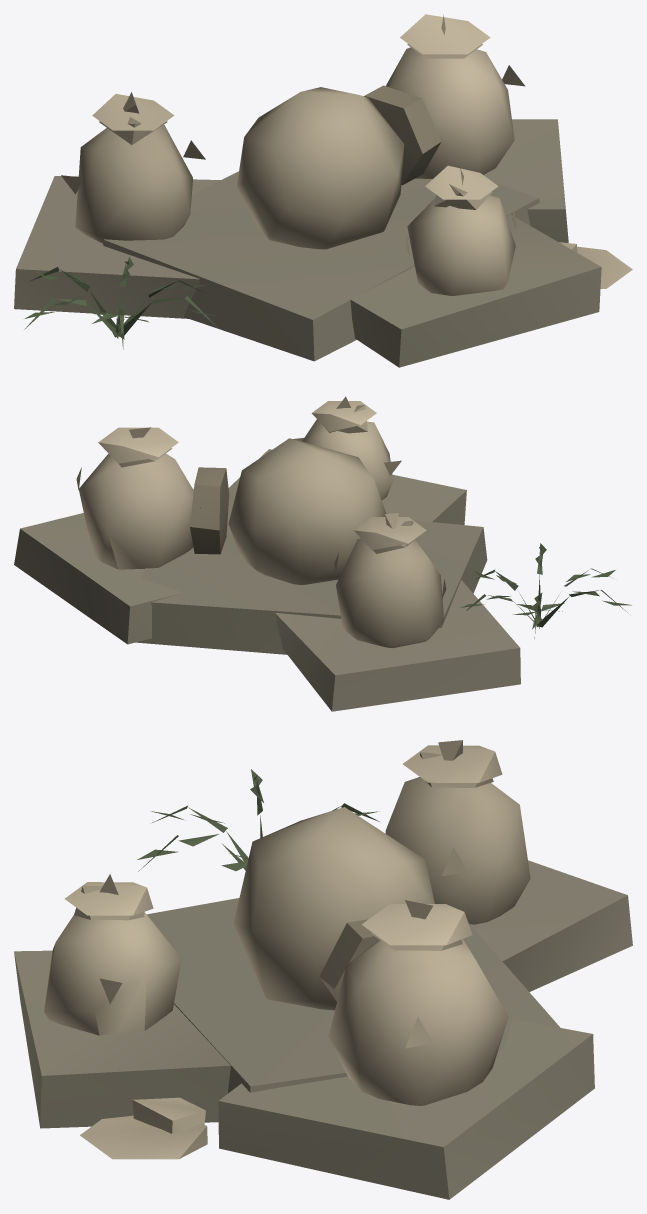
Rendered from granary_jars_c_lod2.glb.
3 renders of one model, top to bottom at view 1: azimuth 30°, elevation 25°; view 2: azimuth 150°, elevation 25°; view 3: azimuth 270°, elevation 25°, orthographic. The views are drawn at different scales.
Visible parts, largest first — view 1: Surface.001; view 2: Surface.001; view 3: Surface.001.
Part boxes in pixels (x1=…): Surface.001: x1=14, y1=14, x2=632, y2=367; Surface.001: x1=14, y1=396, x2=631, y2=711; Surface.001: x1=14, y1=740, x2=632, y2=1199.
Size of the model in its own units: 3.73 by 1.07 by 2.61.
